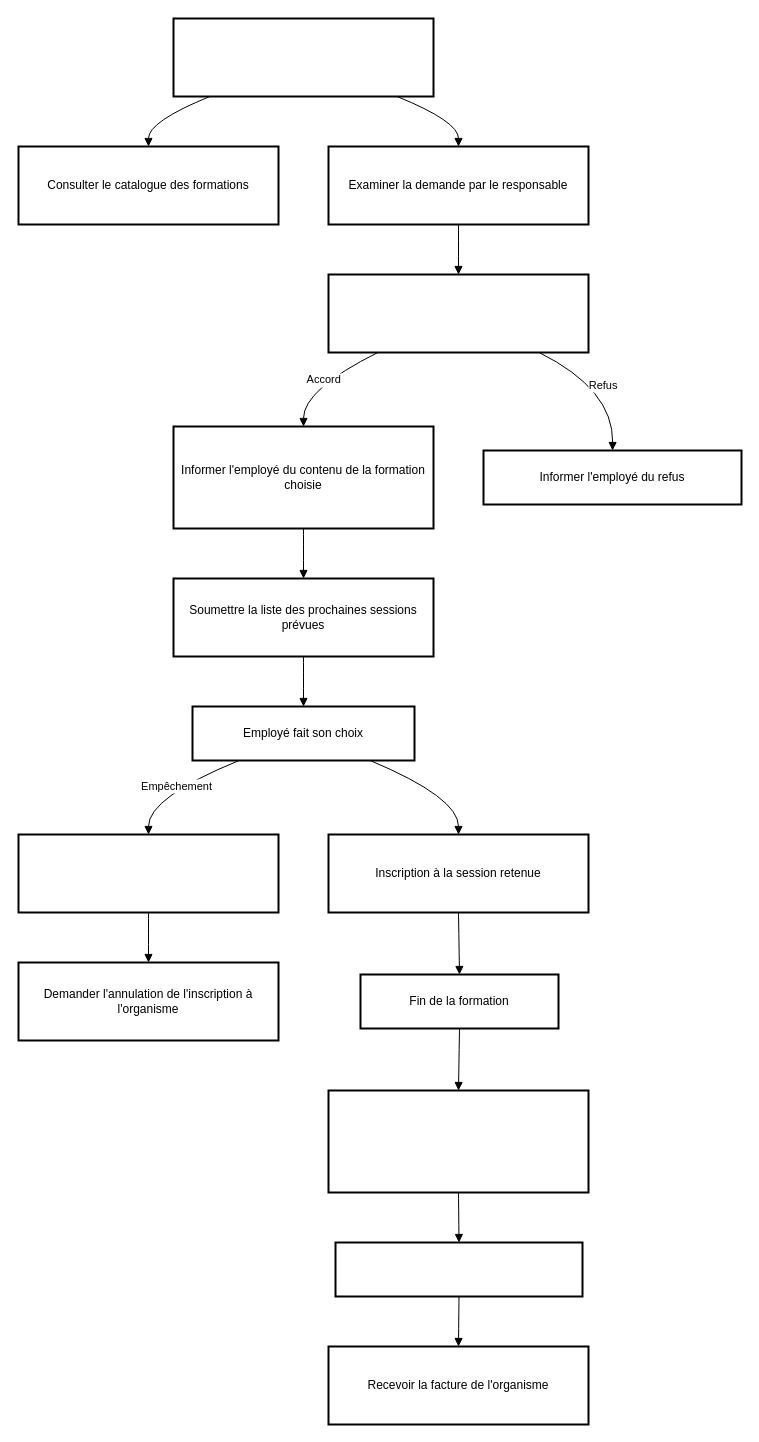
Some shapes in this 759 by 1442 pixel diagram are drawn without their labels. The centre of each missing label's shape, as x and y in pixels:
"Déposer une demande de formation" goes at point 303,57.
"Examine le catalogue des formations agréées" goes at point 458,313.
"Signaler l'empêchement au responsable" goes at point 148,873.
"Transmettre une appréciation sur le stage suivi" goes at point 458,1141.
"Validation de la formation" goes at point 458,1269.
